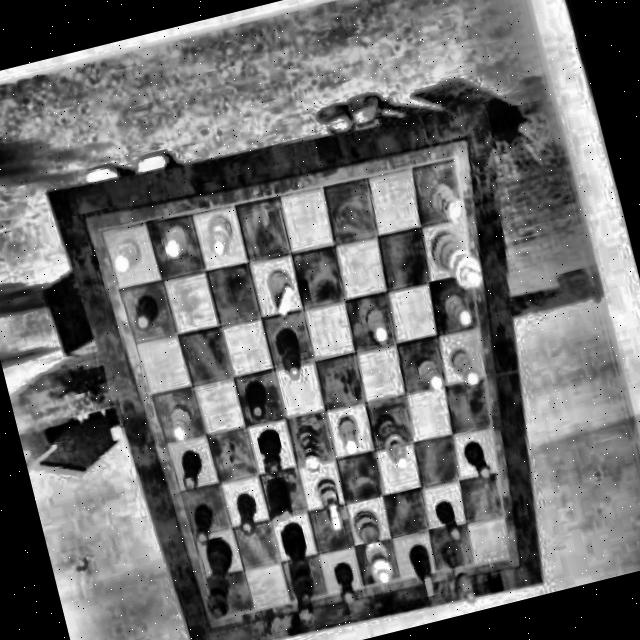black-bishop: (438, 538, 475, 606), (272, 326, 306, 379)
black-king: (276, 520, 321, 608)
black-knight: (406, 542, 438, 600), (260, 477, 296, 528)
black-pawn: (175, 446, 208, 492), (432, 496, 462, 544), (462, 439, 492, 484), (128, 290, 161, 330), (188, 502, 218, 546), (231, 492, 260, 536), (332, 560, 359, 606), (244, 380, 272, 422)
black-queen: (192, 533, 246, 621)
black-rook: (286, 569, 321, 626), (255, 428, 288, 480)
white-bishop: (373, 412, 409, 473), (203, 210, 237, 256)
white-king: (426, 222, 485, 296)
white-knight: (314, 475, 346, 530), (265, 268, 297, 318)
white-pawn: (448, 344, 482, 390), (438, 288, 472, 331), (109, 234, 142, 274), (164, 402, 194, 444), (413, 352, 443, 393), (362, 304, 390, 346), (159, 222, 191, 258), (336, 414, 362, 456)
white-queen: (352, 508, 396, 586)
white-rook: (426, 178, 468, 228), (293, 422, 326, 475)
